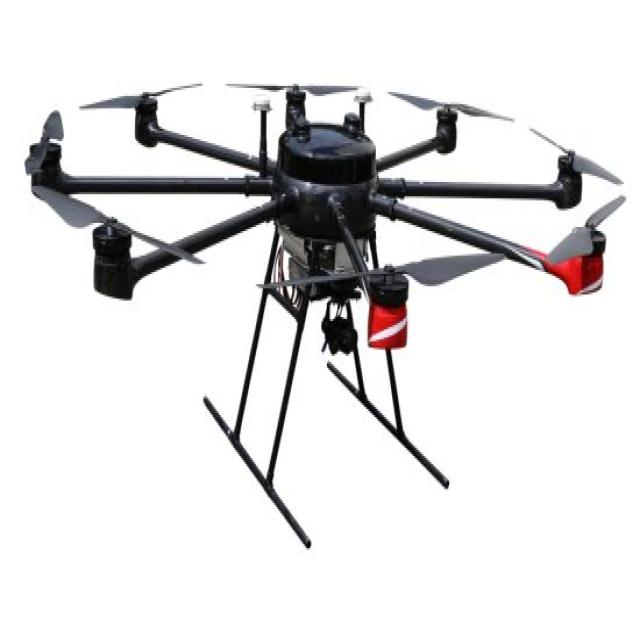drone: (7, 0, 640, 575)
